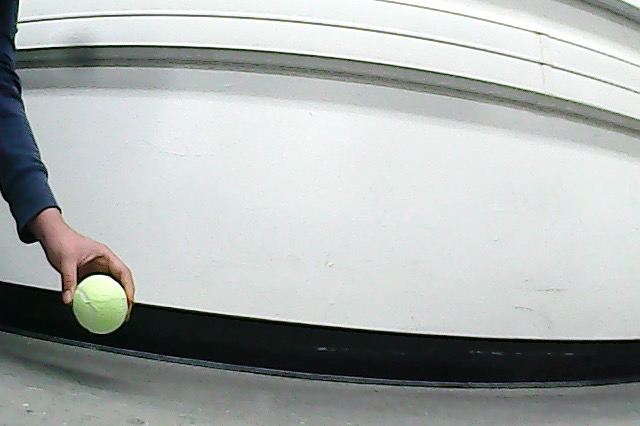ball: (69, 273, 133, 337)
